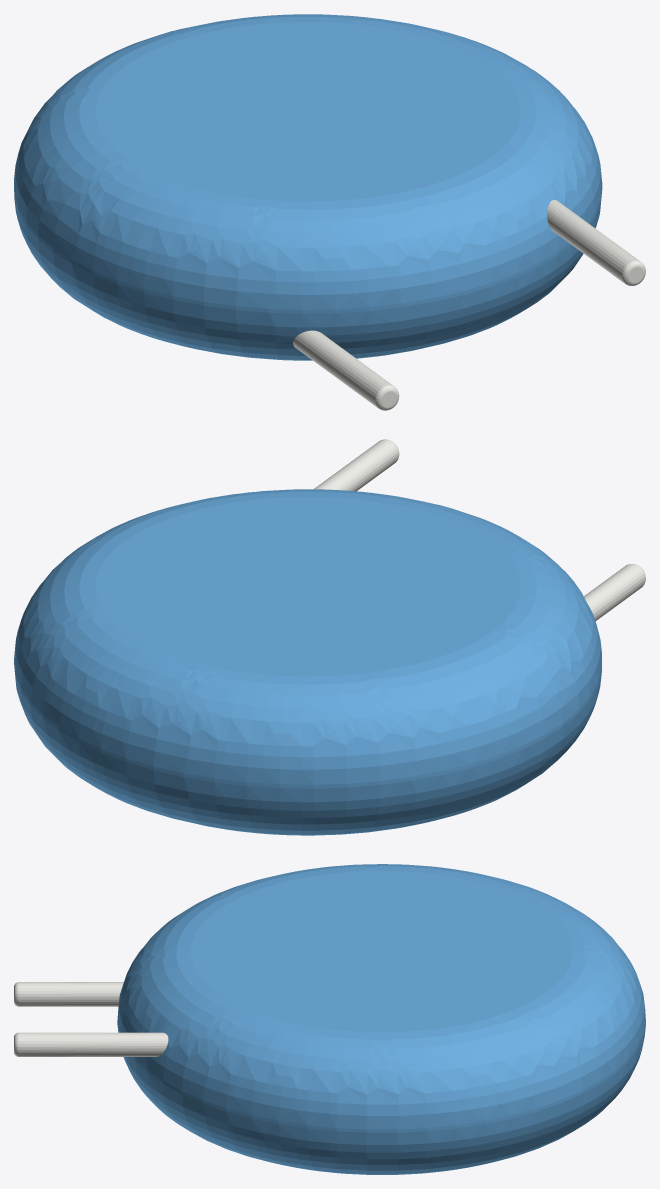
Rendered from RV_Disc_D15.5mm_W4.4mm_P7.5mm.glb.
3 renders of one model, top to bottom at view 1: azimuth 30°, elevation 25°; view 2: azimuth 150°, elevation 25°; view 3: azimuth 270°, elevation 25°, orthographic. The views are drawn at different scales.
Parts seen in each view (by area): view 1: Shape_IndexedFaceSet.001, Shape_IndexedFaceSet.003, Shape_IndexedFaceSet.002, Shape_IndexedFaceSet.006, Shape_IndexedFaceSet.004, Shape_IndexedFaceSet; view 2: Shape_IndexedFaceSet.001, Shape_IndexedFaceSet.003, Shape_IndexedFaceSet.002, Shape_IndexedFaceSet, Shape_IndexedFaceSet.004, Shape_IndexedFaceSet.006; view 3: Shape_IndexedFaceSet.001, Shape_IndexedFaceSet.003, Shape_IndexedFaceSet.002, Shape_IndexedFaceSet.004, Shape_IndexedFaceSet.006, Shape_IndexedFaceSet.
Part boxes in pixels (x1,y1,x2,y2): Shape_IndexedFaceSet.001: (14,14,602,309); Shape_IndexedFaceSet.003: (95,22,520,201); Shape_IndexedFaceSet.002: (14,193,601,360); Shape_IndexedFaceSet.006: (293,330,392,407); Shape_IndexedFaceSet.004: (547,200,639,282); Shape_IndexedFaceSet: (14,187,602,313); Shape_IndexedFaceSet.001: (14,489,601,784); Shape_IndexedFaceSet.003: (95,497,520,676); Shape_IndexedFaceSet.002: (14,671,601,835); Shape_IndexedFaceSet: (14,661,601,788); Shape_IndexedFaceSet.004: (314,439,398,491); Shape_IndexedFaceSet.006: (584,564,645,621); Shape_IndexedFaceSet.001: (117,864,645,1129); Shape_IndexedFaceSet.003: (190,870,572,1031); Shape_IndexedFaceSet.002: (117,1025,645,1174); Shape_IndexedFaceSet.004: (19,1032,168,1056); Shape_IndexedFaceSet.006: (19,982,123,1006); Shape_IndexedFaceSet: (117,1021,645,1132).
Size of the model in its own units: 6.1 by 1.73 by 7.29.
